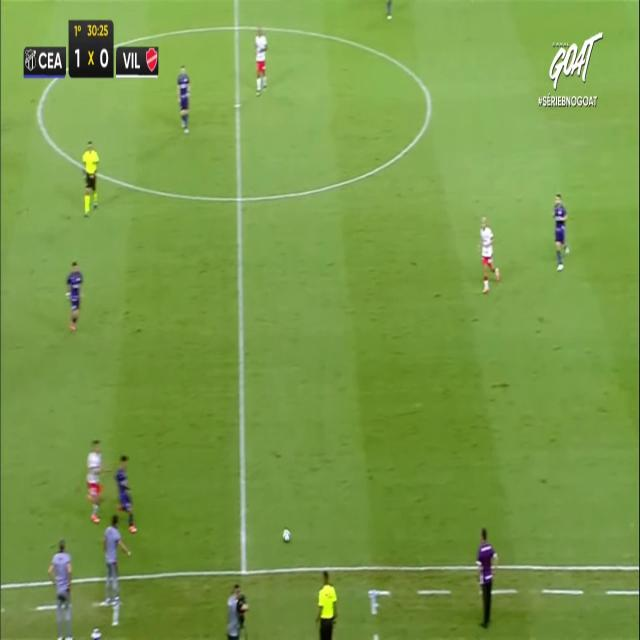ball: (282, 528, 290, 542)
player: (116, 457, 144, 535), (478, 215, 500, 293), (85, 438, 105, 523), (552, 193, 570, 270), (65, 260, 83, 330), (176, 64, 190, 133), (254, 26, 268, 95), (383, 0, 395, 25)
referee: (81, 139, 99, 217)
